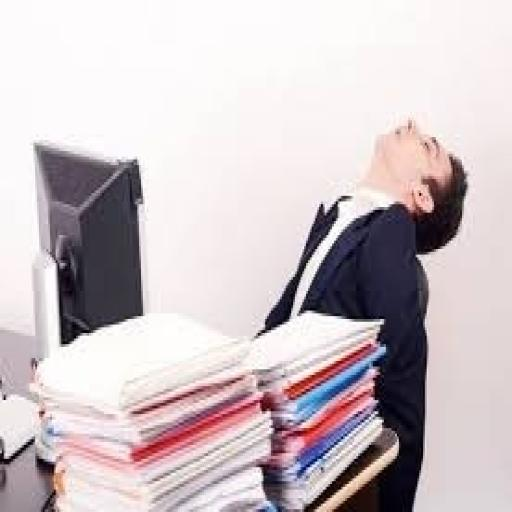sleeping: (254, 109, 469, 509)
